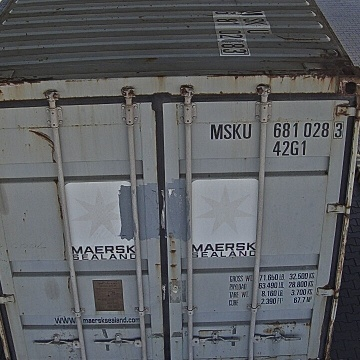serial_id: (210, 122, 343, 139)
